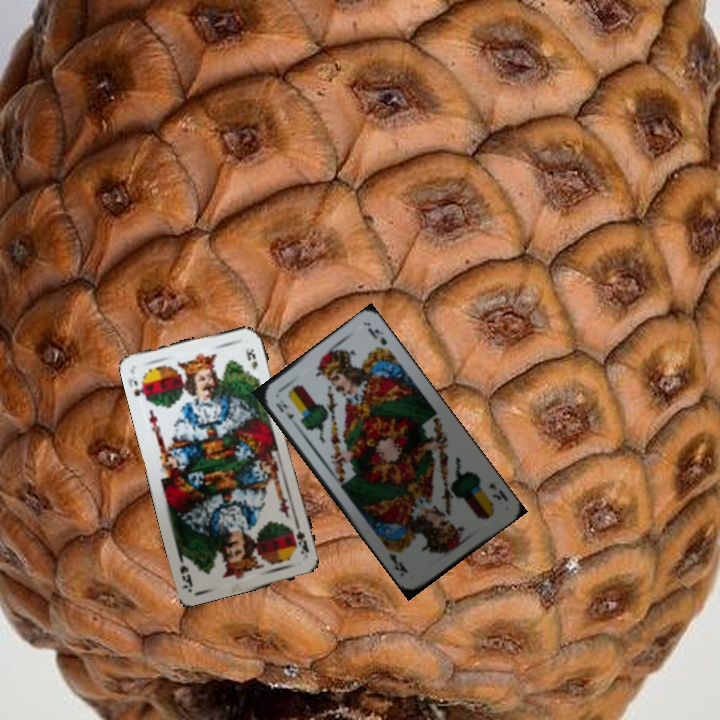EK: (272, 398, 300, 429), (484, 479, 511, 504)
SK: (287, 524, 311, 557), (125, 372, 150, 403)
